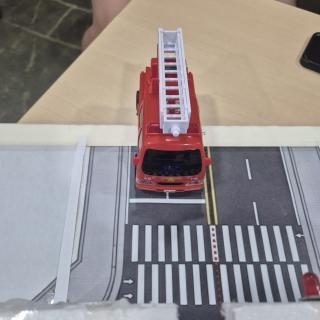Fire_truck: (133, 28, 211, 193)
